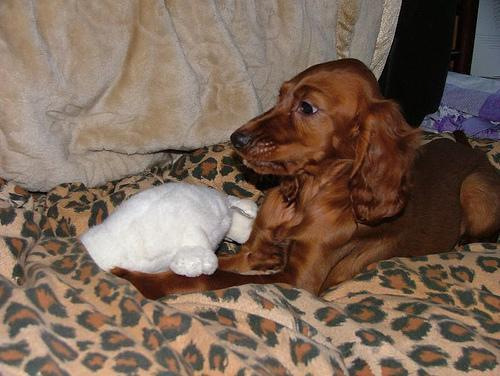Irish_setter: (104, 56, 496, 301)
